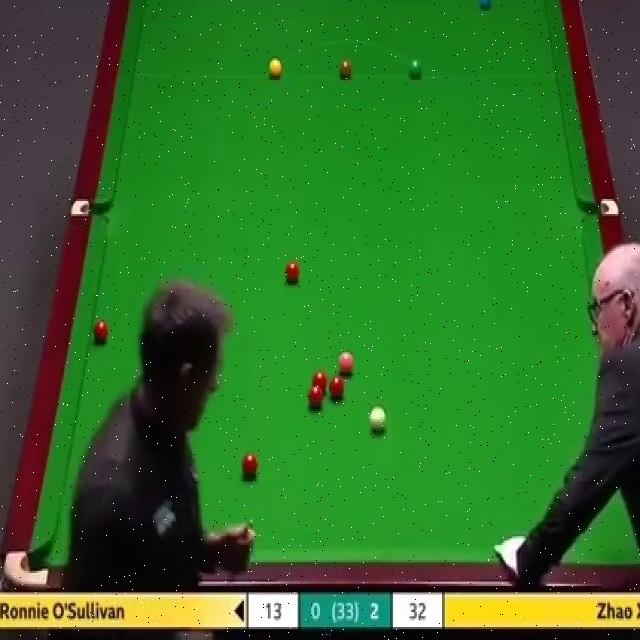blue-ball: (479, 0, 490, 11)
brown-ball: (338, 61, 353, 78)
green-ball: (408, 56, 423, 82)
pink-ball: (338, 350, 355, 375)
red-ball: (90, 318, 110, 346), (328, 375, 346, 401), (242, 452, 258, 479), (312, 370, 328, 396), (284, 261, 300, 283), (308, 385, 323, 408)
white-ball: (370, 403, 388, 431)
yellow-ball: (267, 57, 283, 80)
